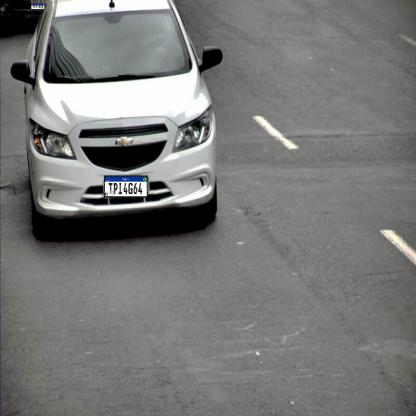PlacaM: (104, 176, 148, 198), (31, 4, 45, 9)
